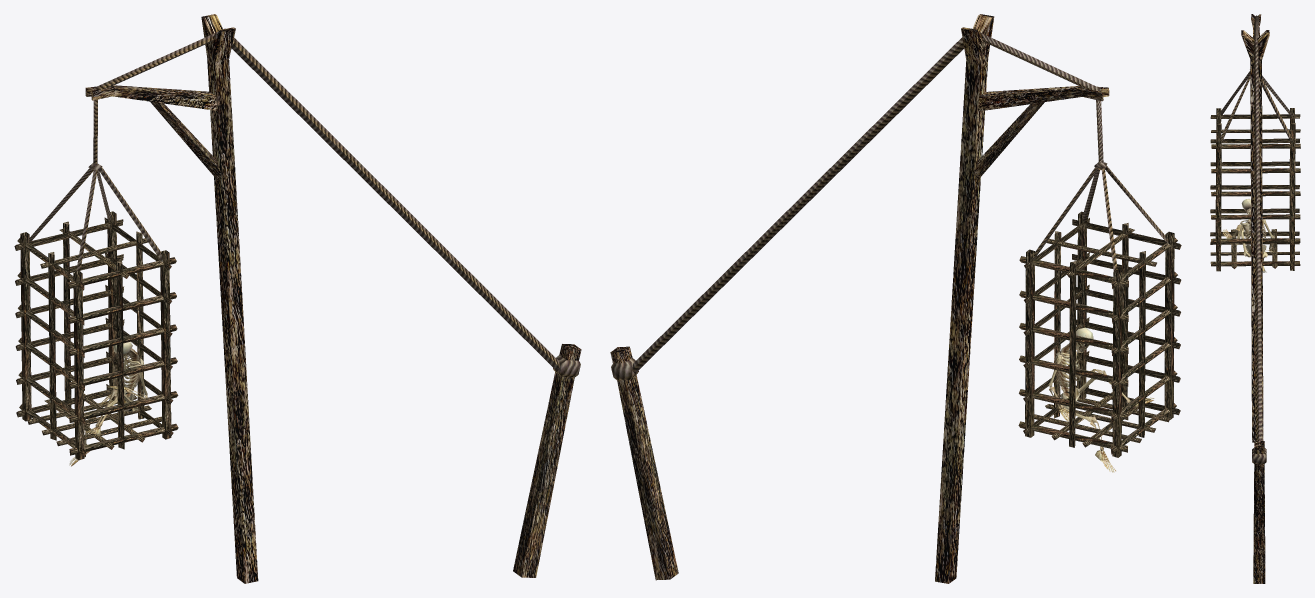
File: hr_ps_cage1.glb
3 views of the same model, side by side, from view 1: azimuth 30°, elevation 25°; view 2: azimuth 150°, elevation 25°; view 3: azimuth 270°, elevation 25° (orthographic). The views are drawn at different scales.
Parts seen in each view (by area): view 1: hr_ps_cage1; view 2: hr_ps_cage1; view 3: hr_ps_cage1.
Part boxes in pixels (<box>): hr_ps_cage1: <box>14,14,581,583</box>; hr_ps_cage1: <box>610,14,1181,583</box>; hr_ps_cage1: <box>1210,14,1300,583</box>.
Size of the model in its own units: 6.09 by 6.81 by 1.26.
5 materials, 5 textured.
